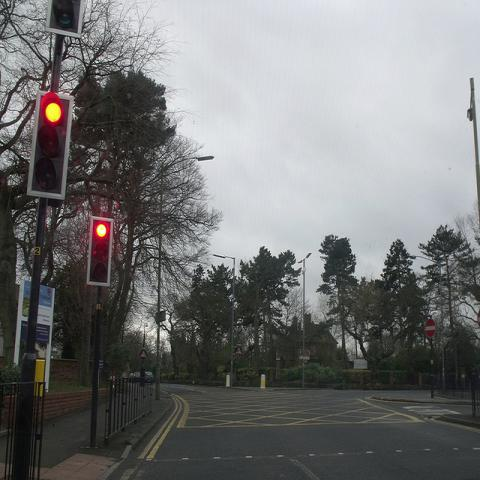car: (130, 372, 140, 383), (145, 371, 154, 382)
